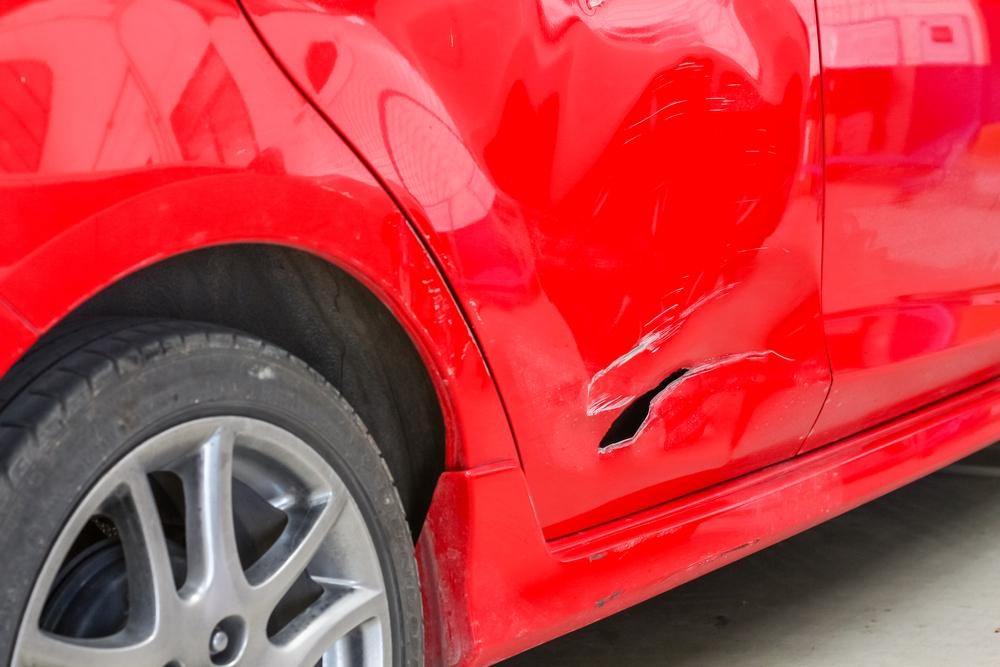crack: (597, 364, 690, 451)
dent: (545, 0, 819, 461)
scratch: (563, 503, 775, 608)
